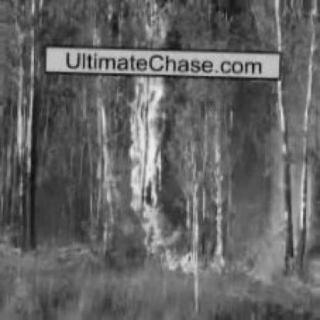Fire: (124, 3, 224, 273)
